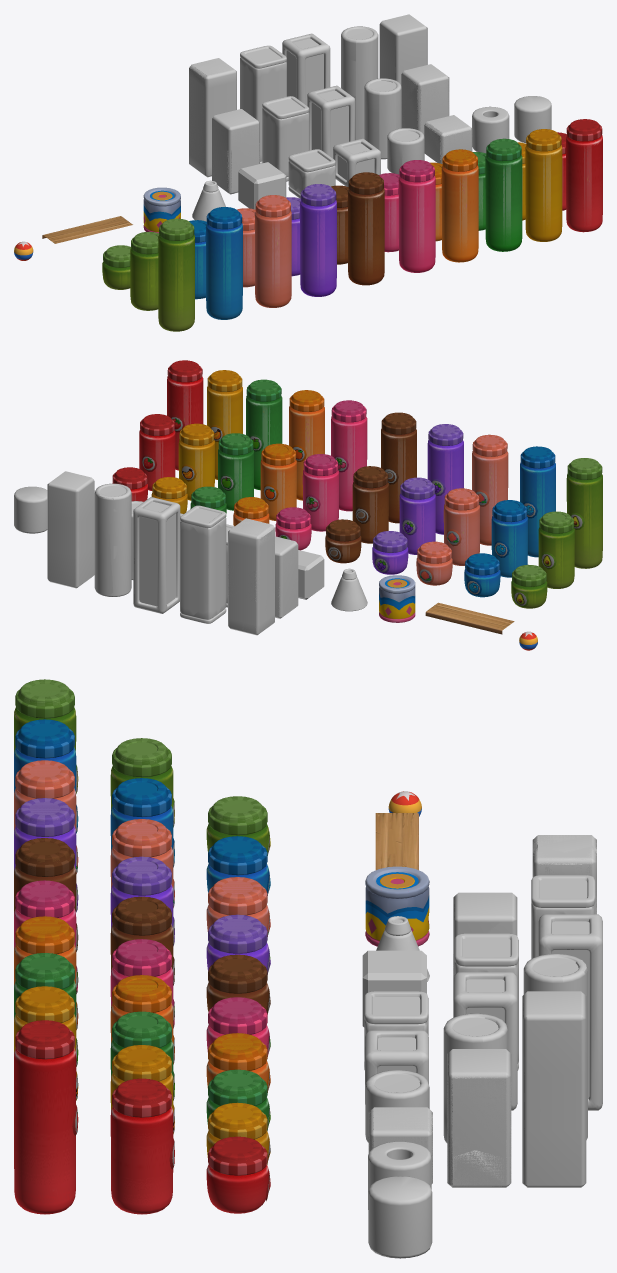
File: Asset.fbx
3 views of the same model, one above another, from view 1: azimuth 30°, elevation 25°; view 2: azimuth 150°, elevation 25°; view 3: azimuth 270°, elevation 25° (orthographic). The views are drawn at different scales.
Parts seen in each view (by area): view 1: Glass_Green_1x3, Glass_Yellow_1x3, Glass_Pink_1x3, Glass_Orange_1x3, Glass_Brown_1x3, Glass_Neon_1x3, Glass_Red_1x3, Glass_Purple_1x3, Glass_Peach_1x3, Glass_Blue_1x3, Stone_Cube_1x3, Cube Can_1x2 (+38 smaller); view 2: Cube Can_1x3, Ice_1x3, Stone_Cube_1x3, Wooden Cube_1x3, Glass_Neon_1x3, Wooden Cylinder_1x3, Glass_Pink_1x3, Glass_Peach_1x3, Glass_Brown_1x3, Glass_Blue_1x3, Glass_Purple_1x3, Glass_Green_1x3 (+34 smaller); view 3: Ice_1x3, Glass_Red_1x3, Ice_1x2, Glass_Red_1x2, Stone_Cylinder, Wooden Cube_1x3, Glass_Red, Cylinder Can, Cube Can_1x3, Wooden Cube, Glass_Brown_1x2, Glass_Brown_1x3 (+47 smaller).
Boxes of the visible parts, x1,y1,x2,y2 form: Glass_Green_1x3: (485, 138, 522, 251); Glass_Yellow_1x3: (525, 129, 562, 241); Glass_Pink_1x3: (398, 160, 435, 272); Glass_Orange_1x3: (441, 149, 478, 262); Glass_Brown_1x3: (348, 172, 384, 285); Glass_Neon_1x3: (158, 218, 194, 331); Glass_Red_1x3: (566, 119, 602, 232); Glass_Purple_1x3: (300, 184, 336, 296); Glass_Peach_1x3: (255, 195, 291, 307); Glass_Blue_1x3: (206, 207, 242, 319); Stone_Cube_1x3: (189, 59, 236, 177); Cube Can_1x2: (262, 96, 309, 181); Cube Can_1x3: (180, 505, 226, 623); Ice_1x3: (47, 471, 94, 588); Stone_Cube_1x3: (228, 518, 274, 635); Wooden Cube_1x3: (133, 497, 179, 613); Glass_Neon_1x3: (566, 458, 602, 568); Wooden Cylinder_1x3: (94, 483, 131, 596); Glass_Pink_1x3: (331, 400, 367, 511); Glass_Peach_1x3: (472, 434, 508, 545); Glass_Brown_1x3: (381, 412, 416, 523); Glass_Blue_1x3: (520, 446, 555, 557); Glass_Purple_1x3: (427, 424, 463, 534); Glass_Green_1x3: (246, 379, 282, 490); Ice_1x3: (522, 991, 586, 1187); Glass_Red_1x3: (14, 1020, 78, 1214); Ice_1x2: (447, 1049, 511, 1187); Glass_Red_1x2: (110, 1078, 174, 1214); Stone_Cylinder: (368, 1176, 432, 1258); Wooden Cube_1x3: (541, 914, 602, 1110); Glass_Red: (206, 1136, 270, 1213); Cylinder Can: (365, 866, 429, 946); Cube Can_1x3: (531, 875, 595, 958); Wooden Cube: (365, 1030, 428, 1104); Glass_Brown_1x2: (110, 896, 174, 985); Glass_Brown_1x3: (14, 838, 78, 952).
Bounding box in the file's own units: 16.42 × 3.02 × 9.19.
